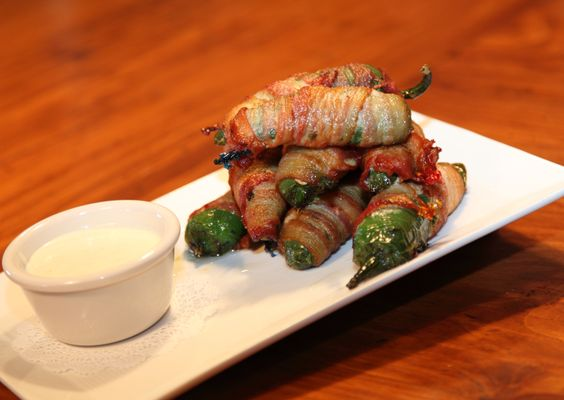sushi: (1, 199, 181, 349)
